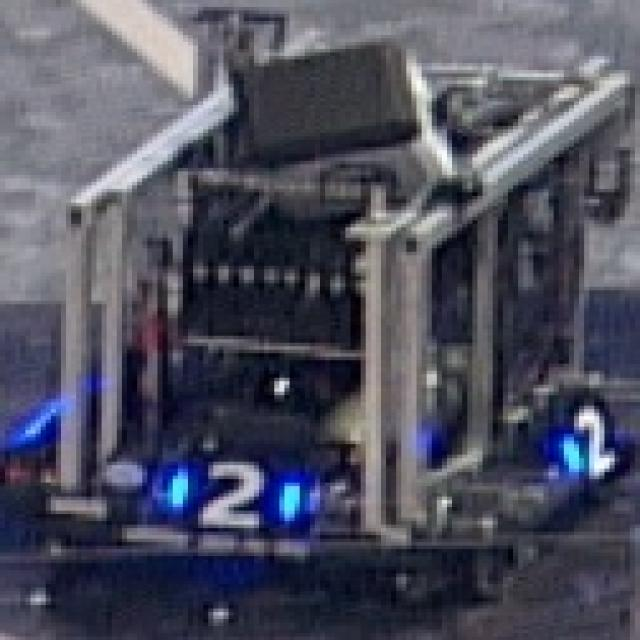B2: (168, 454, 304, 532)
